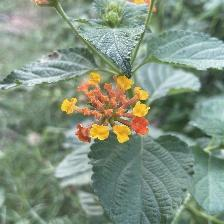common lanthana: (63, 71, 152, 145)
